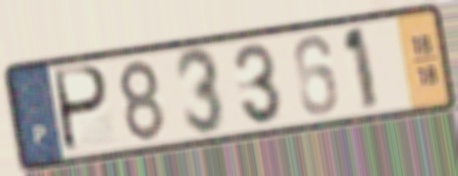1: (341, 23, 382, 113)
3: (174, 43, 227, 142), (232, 39, 282, 127)
6: (291, 33, 341, 119)
8: (114, 56, 169, 145)
P: (54, 63, 113, 156)
